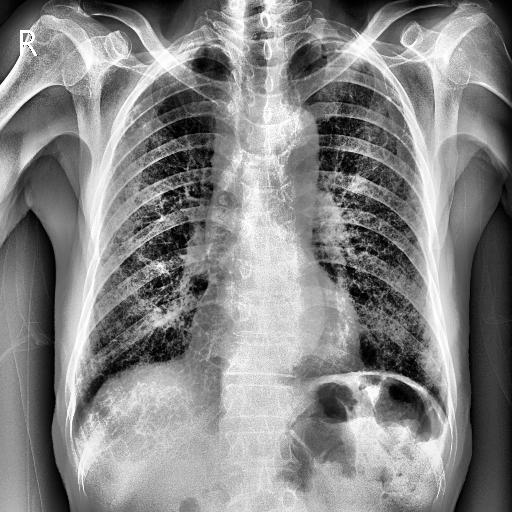0- Aortic enlargement: (258, 105, 318, 190), (258, 98, 319, 174), (262, 104, 318, 153)
11- Pleural thickening: (158, 44, 204, 76), (320, 35, 368, 62), (176, 38, 236, 54)
13- Pulmonary fibrosis: (124, 112, 153, 135)
5- ILD: (66, 26, 234, 442), (310, 36, 450, 420), (82, 90, 216, 398), (332, 82, 452, 386), (64, 196, 216, 426), (336, 168, 452, 396)
